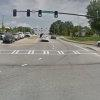Crosswalk: (7, 42, 100, 62)
